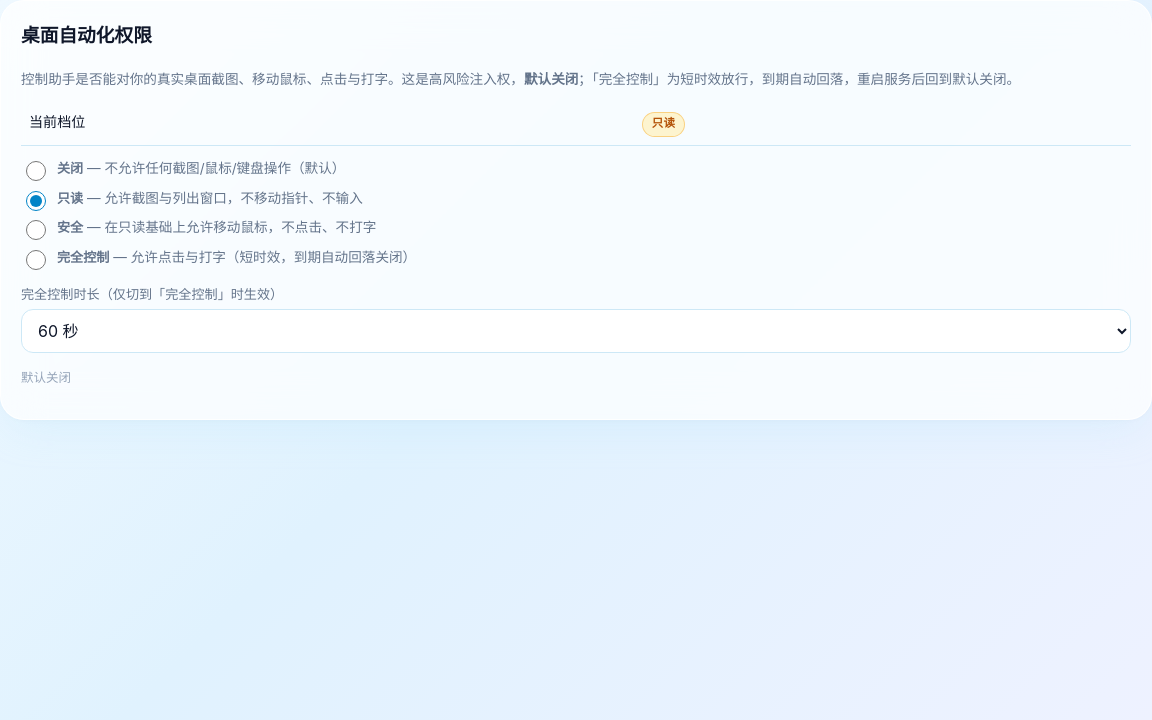
Test: AutomationPermissionCard 关闭档 › PUT 失败时如实报错（不静默吞掉）
The image size is (1152, 720).
Click the radio button with test id "automation-mode-off": coordinates (36, 171) [26,161,46,181]
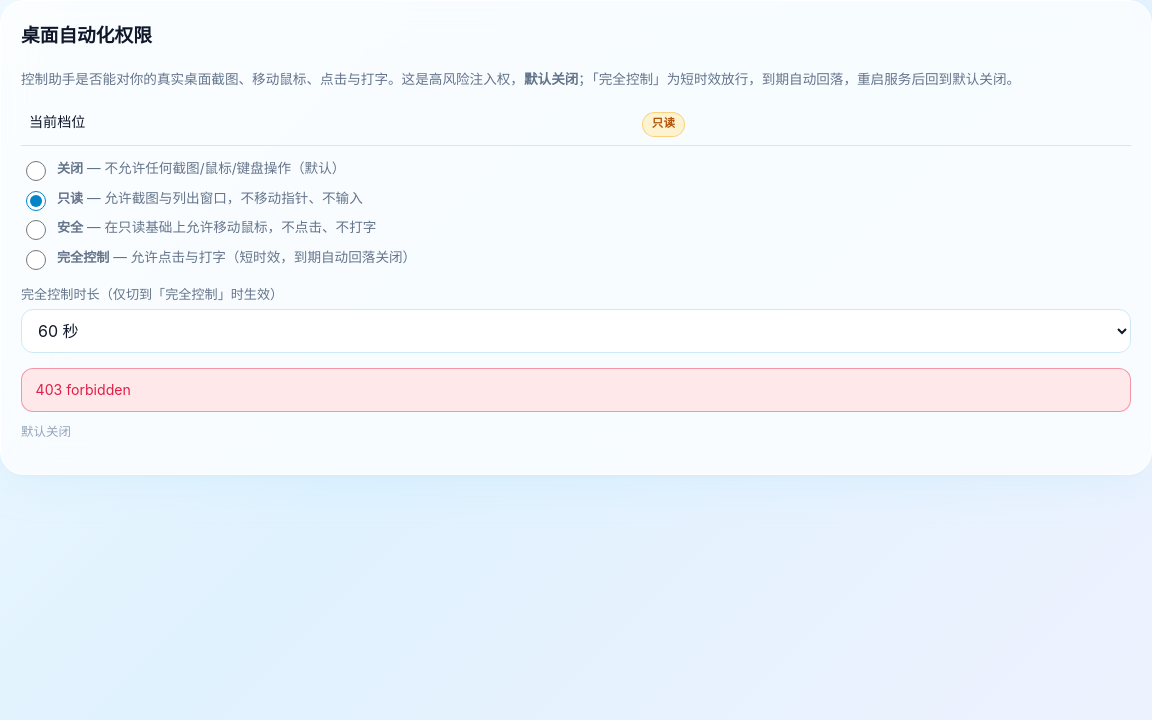
Expected: the message with test id "automation-error" shows "403", [36,381,131,398]
